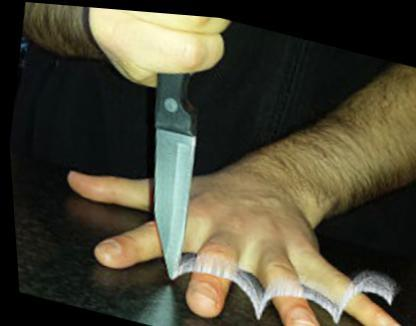knife: (106, 14, 226, 282)
